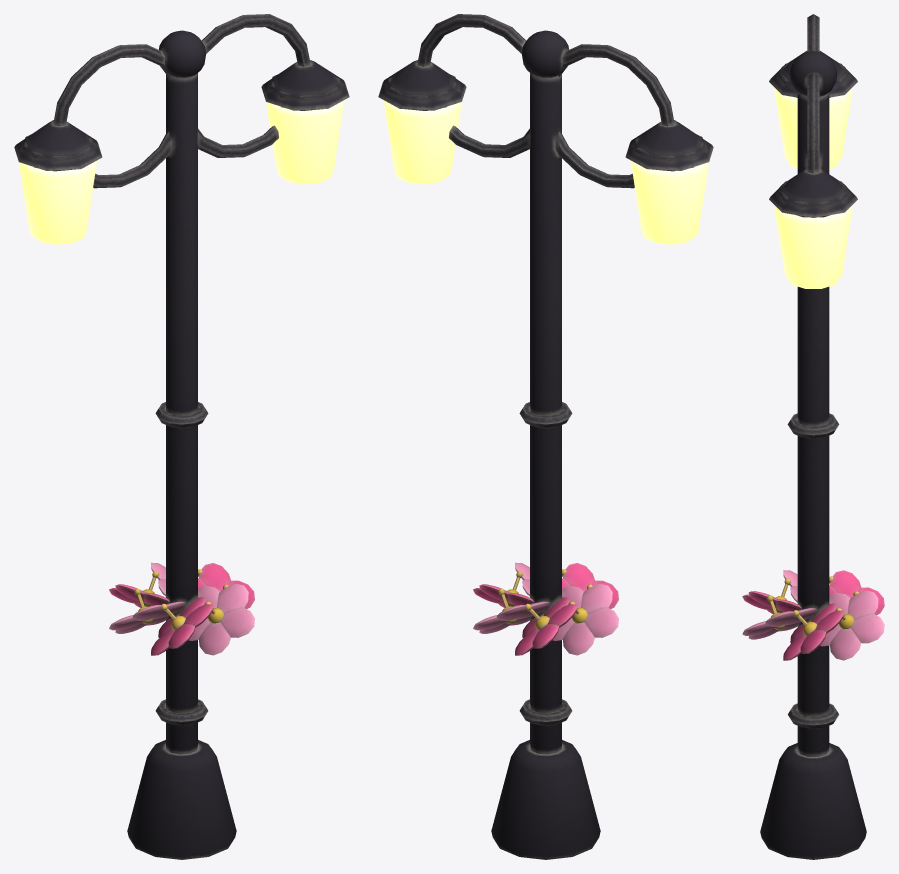
File: rc_victorian_lamp.glb
3 renders of one model, left to right at view 1: azimuth 30°, elevation 25°; view 2: azimuth 150°, elevation 25°; view 3: azimuth 270°, elevation 25°, orthographic. The views are drawn at different scales.
Parts seen in each view (by area): view 1: rc_victorian_lamp; view 2: rc_victorian_lamp; view 3: rc_victorian_lamp.
Part boxes in pixels (x1,y1,x2,y2): rc_victorian_lamp: (14,14,349,859); rc_victorian_lamp: (378,14,713,859); rc_victorian_lamp: (742,14,884,859).
Size of the model in its own units: 1.85 by 4.39 by 0.7166.
5 materials, 5 textured.
